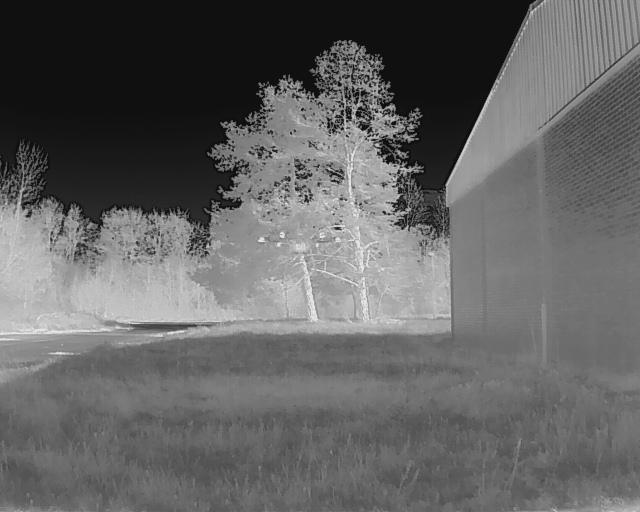drone: (252, 223, 347, 279)
